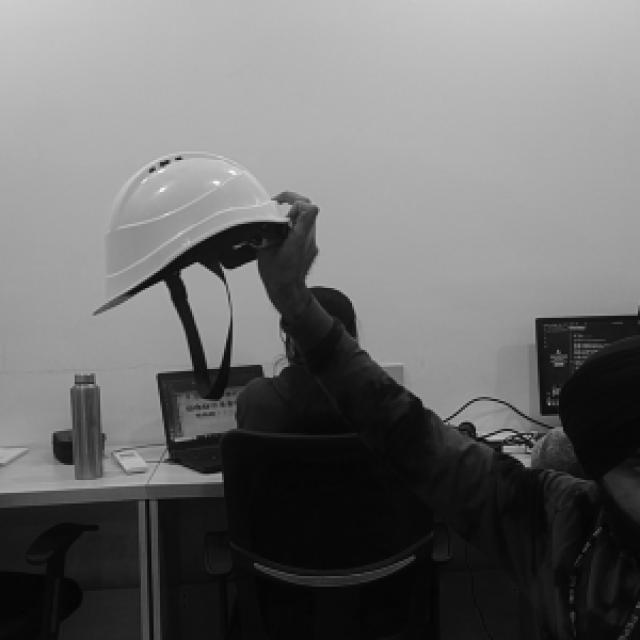safety_helmet: (89, 148, 291, 315)
